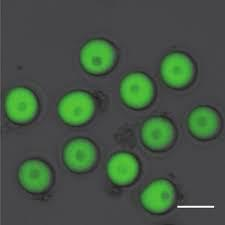cell: (140, 178, 180, 215), (16, 156, 56, 193), (56, 89, 96, 126), (80, 39, 120, 75), (120, 71, 156, 111), (4, 86, 40, 126), (160, 52, 196, 90), (63, 139, 100, 174), (140, 116, 178, 150), (187, 105, 222, 139), (106, 151, 139, 187)
